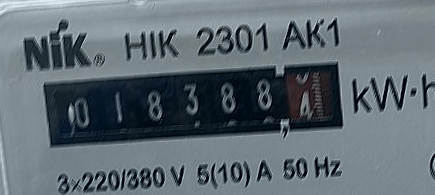0: (71, 94, 93, 131)
1: (108, 87, 128, 125)
3: (181, 81, 203, 117)
4: (295, 87, 316, 121)
8: (143, 86, 166, 123), (253, 75, 276, 112), (217, 80, 239, 116)
screen: (34, 52, 357, 158)
